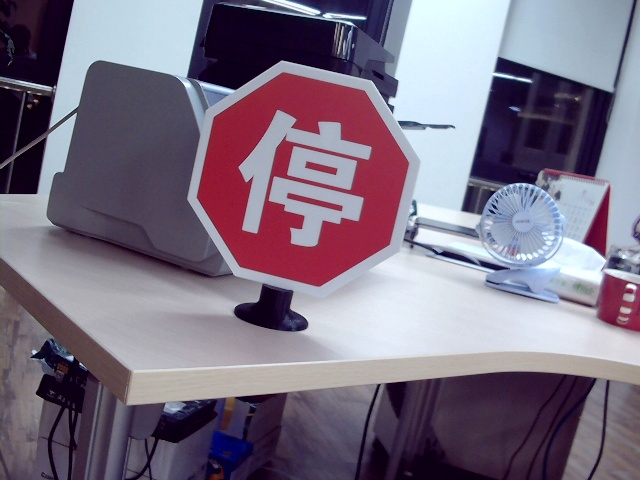stop: (237, 106, 373, 246)
